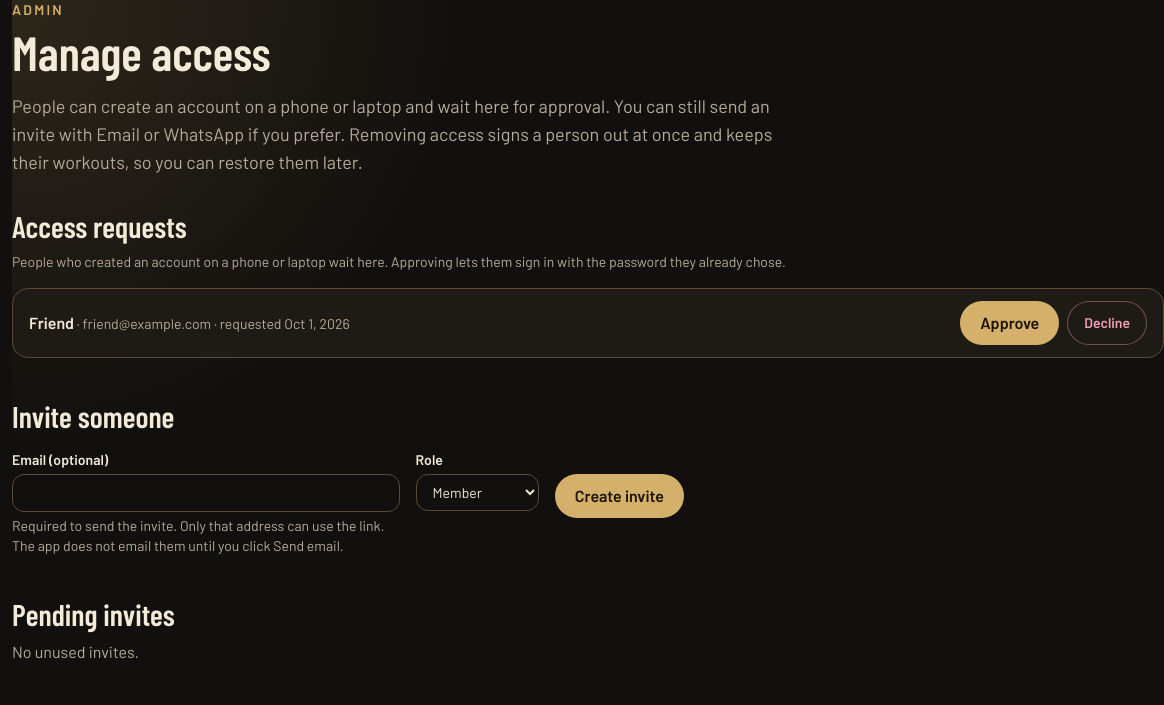
Test: AdminPage › creates an invite link and shows it once with share options
This screenshot has width=1164, height=705.
Click the button "Create invite" at (619, 496), box [555,474,684,518]
(page scrolled)
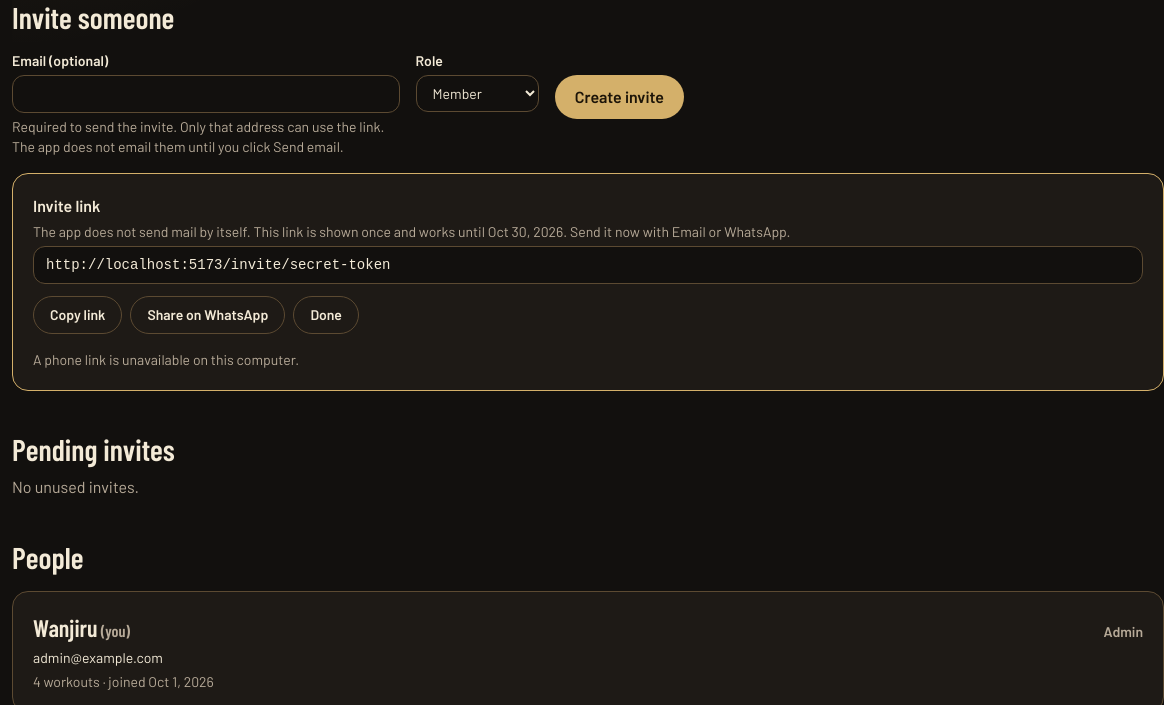
Expected: the field named "Link" holds "http://localhost:5173/invite/secret-token", [33,246,1143,284]
Expected: the text "A phone link is unavailable on this computer." is shown, [33,351,299,368]
